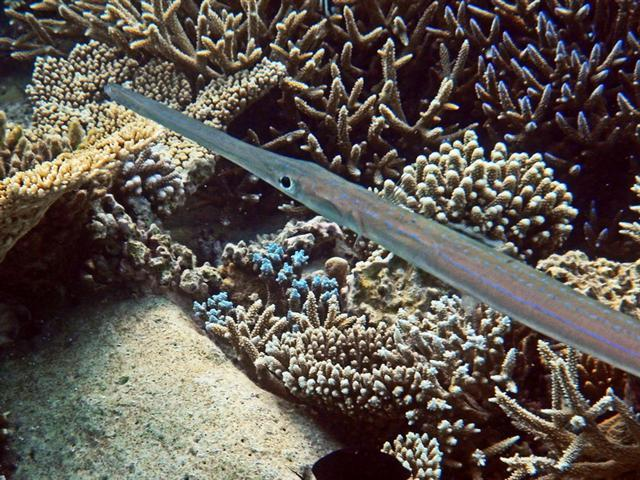Fistularia commersonii: (44, 70, 640, 396)
